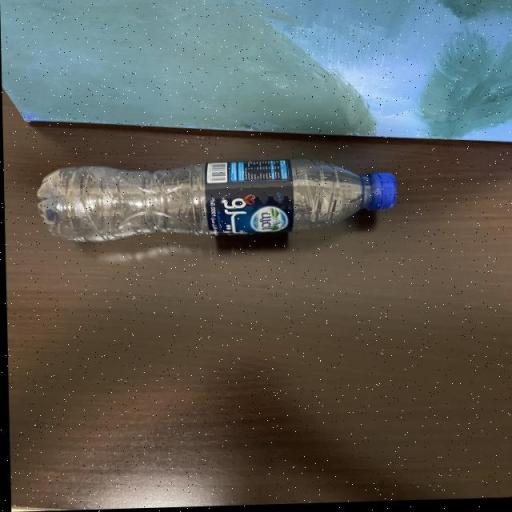plastic: (25, 151, 406, 256)
